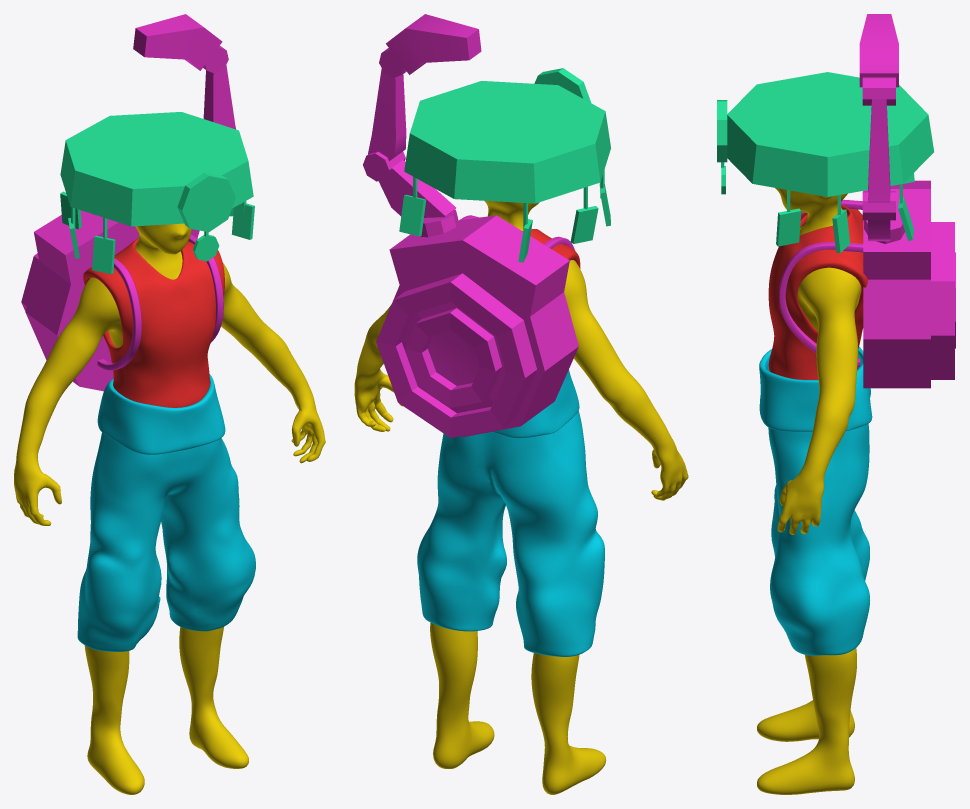
File: MS_BlockoutChara_TestColor.fbx
The picture shows the model from 3 angles, left to right: view 1: azimuth 30°, elevation 25°; view 2: azimuth 150°, elevation 25°; view 3: azimuth 270°, elevation 25°; orthographic projection. The views are drawn at different scales.
Parts seen in each view (by area): view 1: Chara_Pants, Chara_Body, Chara_Hat, Chara_Top, Chara_Bag, Chara_Bell, Chara_StrapBag; view 2: Chara_Bag, Chara_Pants, Chara_Hat, Chara_Body, Chara_Bell; view 3: Chara_Bag, Chara_Hat, Chara_Body, Chara_Pants, Chara_Top, Chara_Bell, Chara_StrapBag.
Part boxes in pixels (x1,y1,x2,y2): Chara_Pants: [77, 432, 255, 651]; Chara_Body: [14, 223, 325, 794]; Chara_Hat: [60, 112, 254, 274]; Chara_Top: [83, 238, 224, 407]; Chara_Bag: [21, 14, 235, 391]; Chara_Bell: [97, 374, 225, 454]; Chara_StrapBag: [97, 234, 223, 370]; Chara_Bag: [363, 14, 578, 437]; Chara_Pants: [417, 411, 604, 656]; Chara_Hat: [399, 68, 610, 262]; Chara_Body: [354, 200, 688, 794]; Chara_Bell: [492, 370, 579, 438]; Chara_Bag: [859, 14, 955, 388]; Chara_Hat: [717, 72, 934, 252]; Chara_Body: [757, 188, 861, 794]; Chara_Pants: [768, 423, 869, 655]; Chara_Top: [768, 205, 867, 379]; Chara_Bell: [759, 346, 872, 431]; Chara_StrapBag: [779, 199, 863, 367].
Size of the model in its own units: 88.41 by 201 by 57.6.
